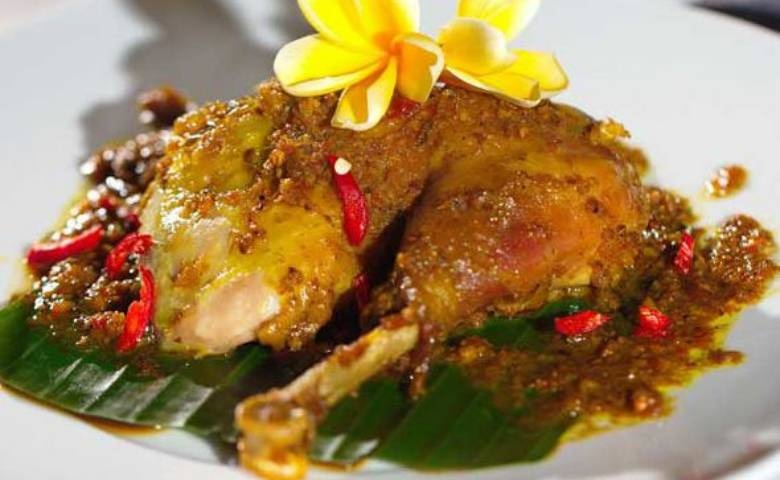ayam_betutu: (25, 130, 649, 480)
